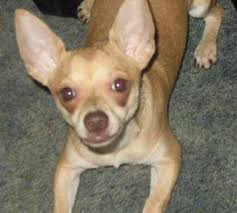chihuahua: (6, 4, 203, 213)
